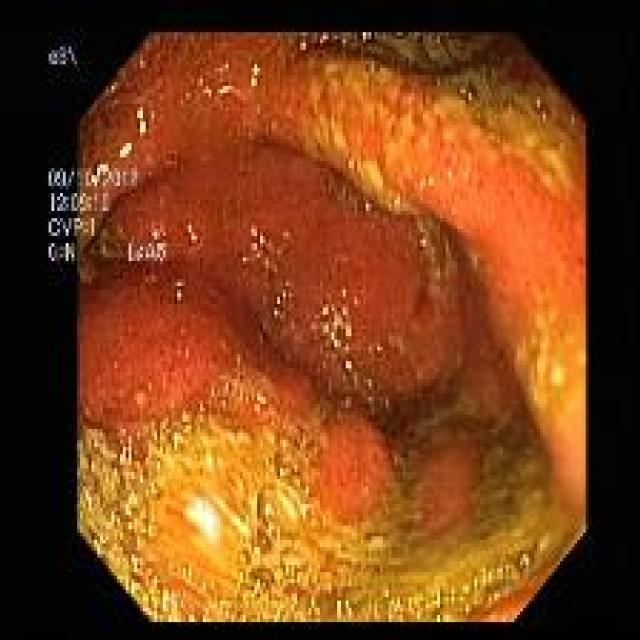ulcerative-colitis: (70, 33, 586, 622)
